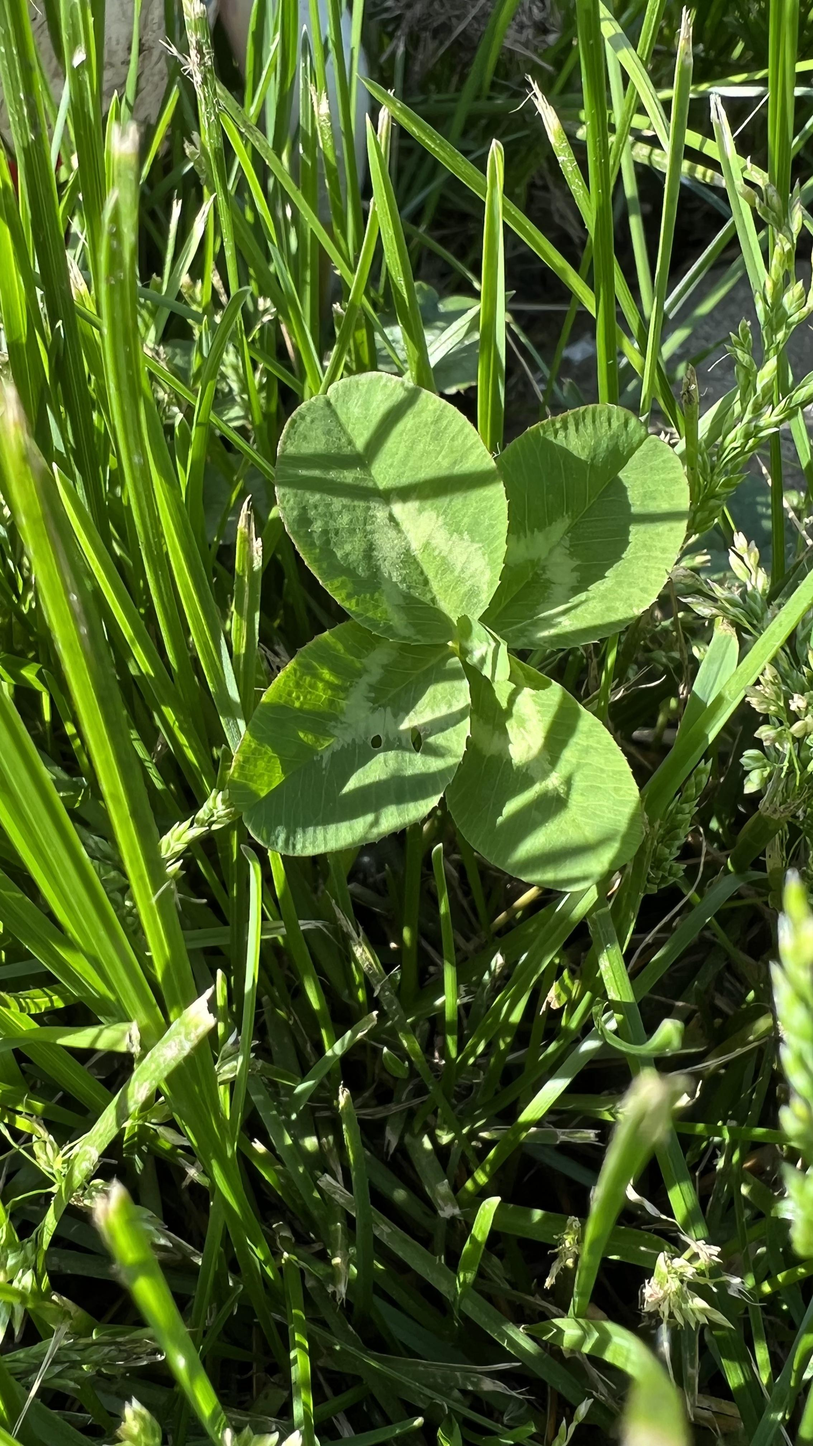4-Leaf-Clovers: (241, 368, 687, 886)
